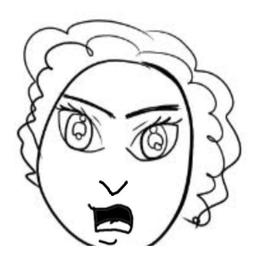eye: (49, 99, 106, 154), (129, 118, 179, 171)
eyebrow: (125, 102, 181, 122)
frowning_eyebrow: (62, 95, 119, 121)
nose: (97, 180, 131, 195)
open_mouth: (83, 200, 140, 236)
